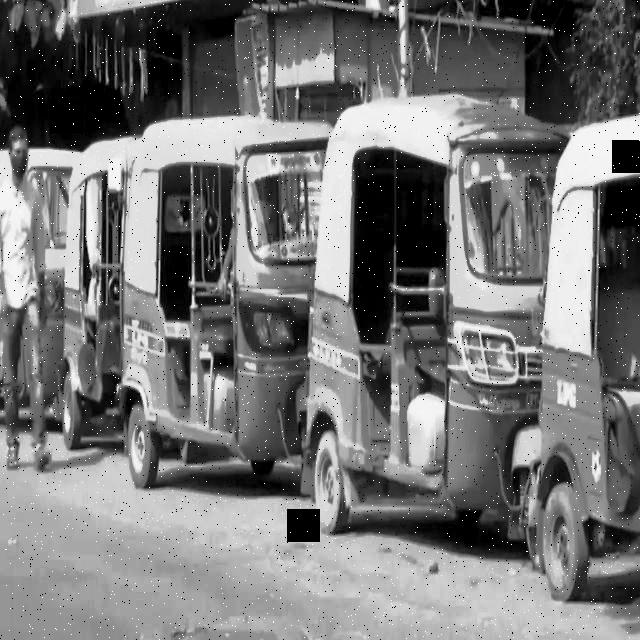Auto-Rickshaw: (320, 91, 550, 557), (133, 96, 331, 516), (546, 102, 640, 626), (59, 128, 149, 476)
